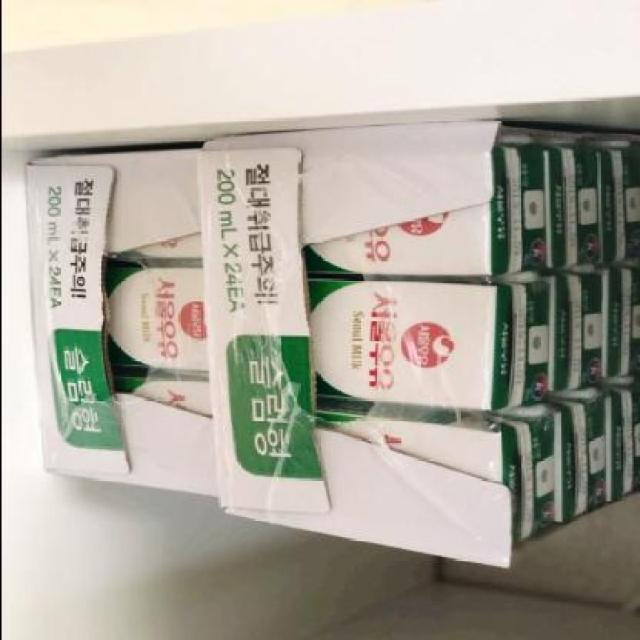tetra: (296, 262, 582, 421)
